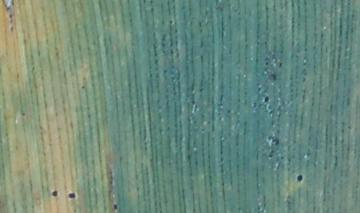tarspot: (269, 70, 278, 80), (50, 188, 59, 197), (66, 191, 76, 199), (296, 172, 303, 183), (6, 11, 14, 19), (277, 59, 284, 68), (19, 110, 26, 118), (262, 96, 270, 103), (8, 25, 15, 32), (113, 203, 118, 211), (80, 84, 86, 90)
